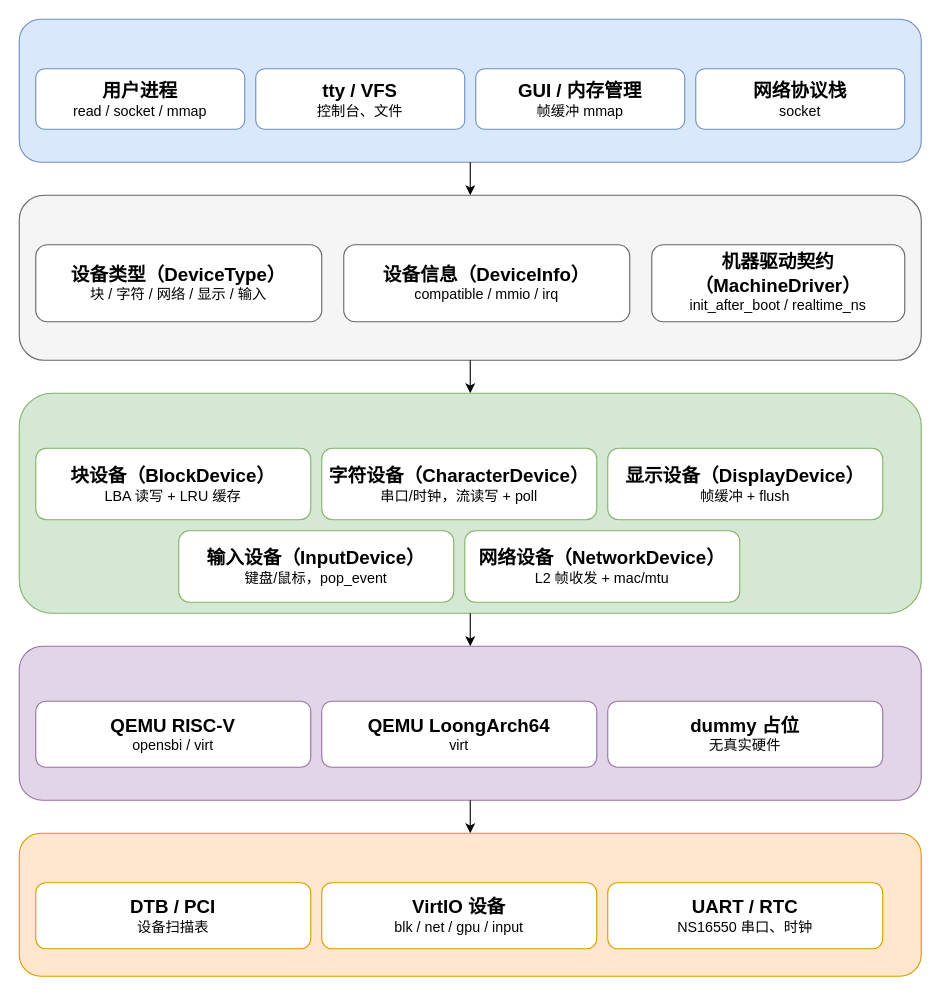
This 941x996 diagram has some shape labels left out. Each missing label, with the box of its shape:
上层调用者: (18, 18, 921, 162)
五个领域子系统（各暴露 trait）: (18, 392, 921, 613)
公共设备模型（driver-api）: (18, 194, 921, 360)
机器驱动（driver-impl，平台解耦）: (18, 645, 921, 800)
硬件层: (18, 832, 921, 976)
